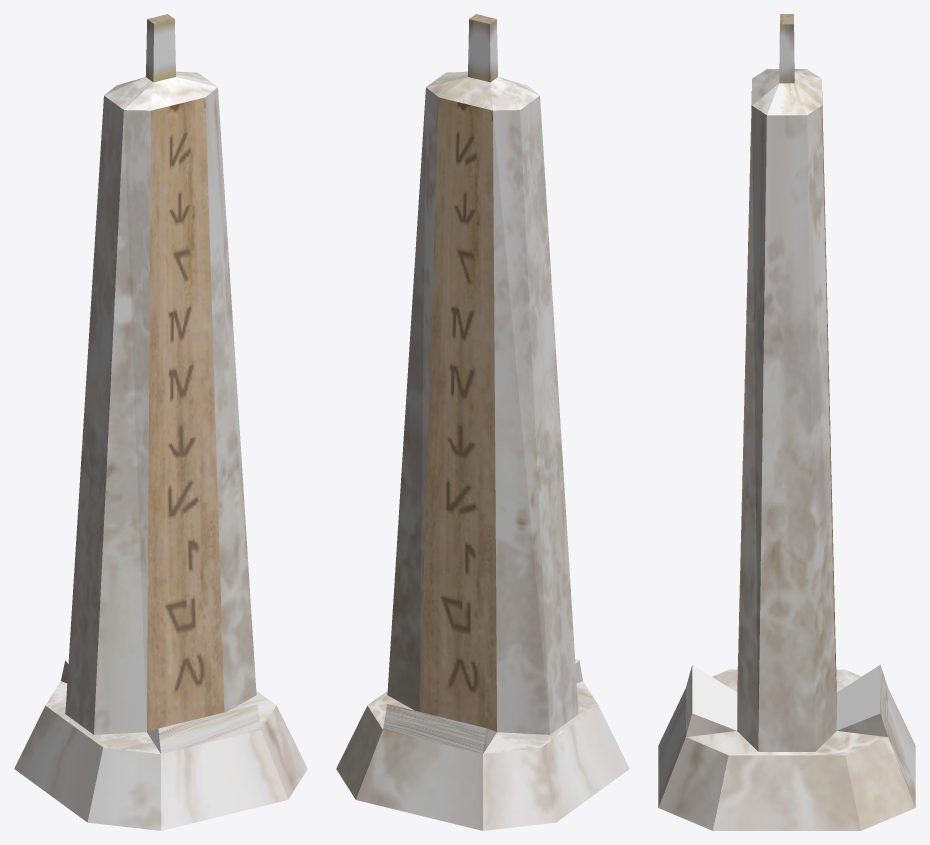
File: thm_tato_imprv_street_sign_s01_l1.fbx
3 renders of one model, left to right at view 1: azimuth 30°, elevation 25°; view 2: azimuth 150°, elevation 25°; view 3: azimuth 270°, elevation 25°, orthographic.
Parts seen in each view (by area): view 1: mesh_node; view 2: mesh_node; view 3: mesh_node.
Part boxes in pixels (box(x1,y1,x2,y2)): mesh_node: box(14, 14, 307, 830); mesh_node: box(336, 14, 629, 830); mesh_node: box(658, 14, 915, 830).
Bounding box in the file's own units: 0.8597 × 2.8 × 0.8597.
